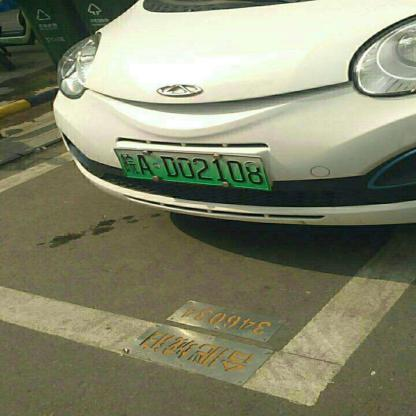lp: (111, 148, 270, 189)
